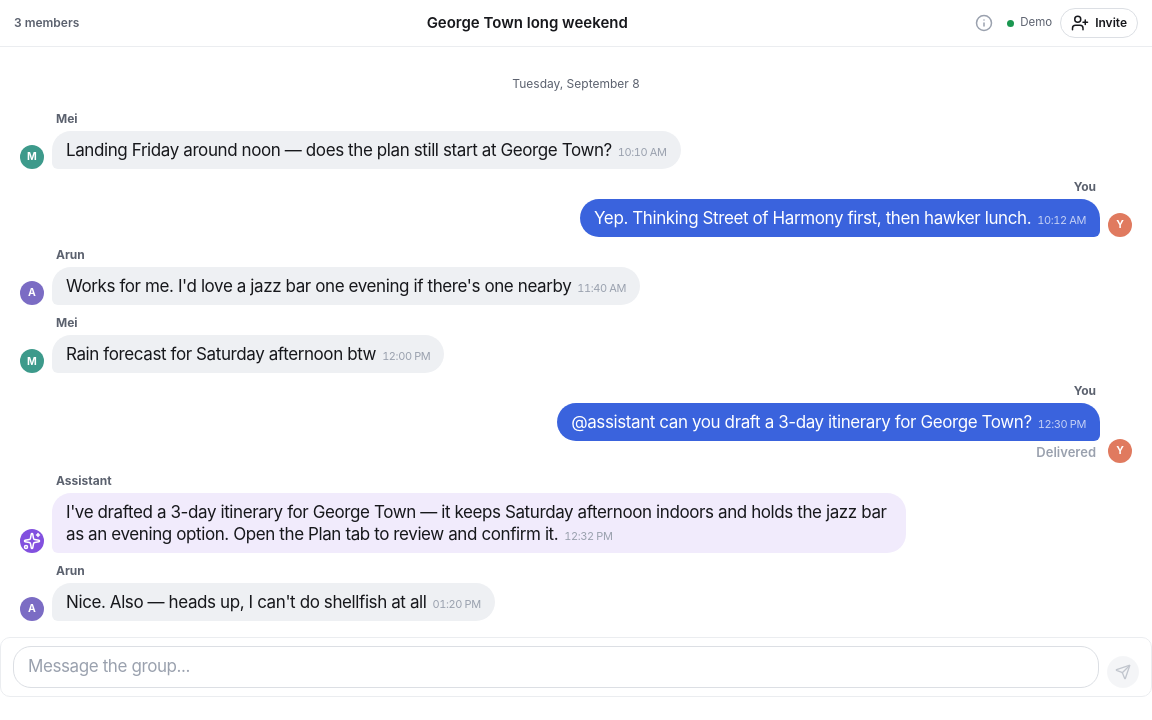
it: DemoChat invite link › copies the invite link to the clipboard
Click the button "Invite": click(1099, 23) 1060,8 -> 1138,38
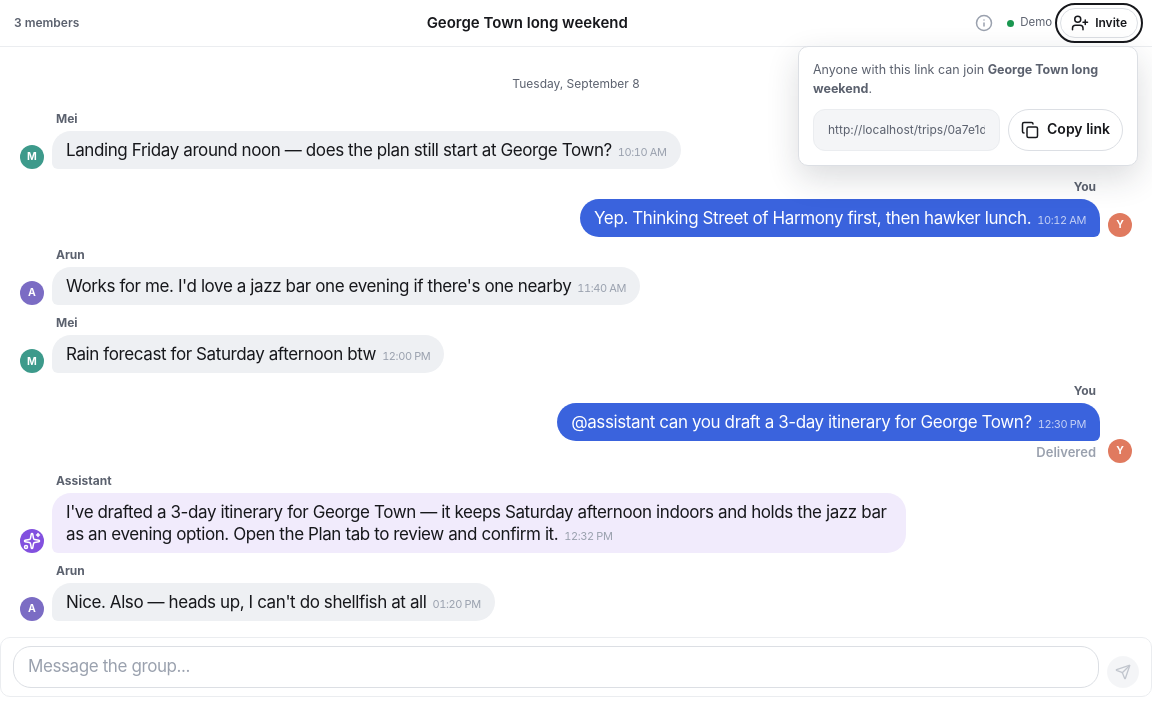
Click the button "Copy link": click(1066, 130) 1008,108 -> 1123,150
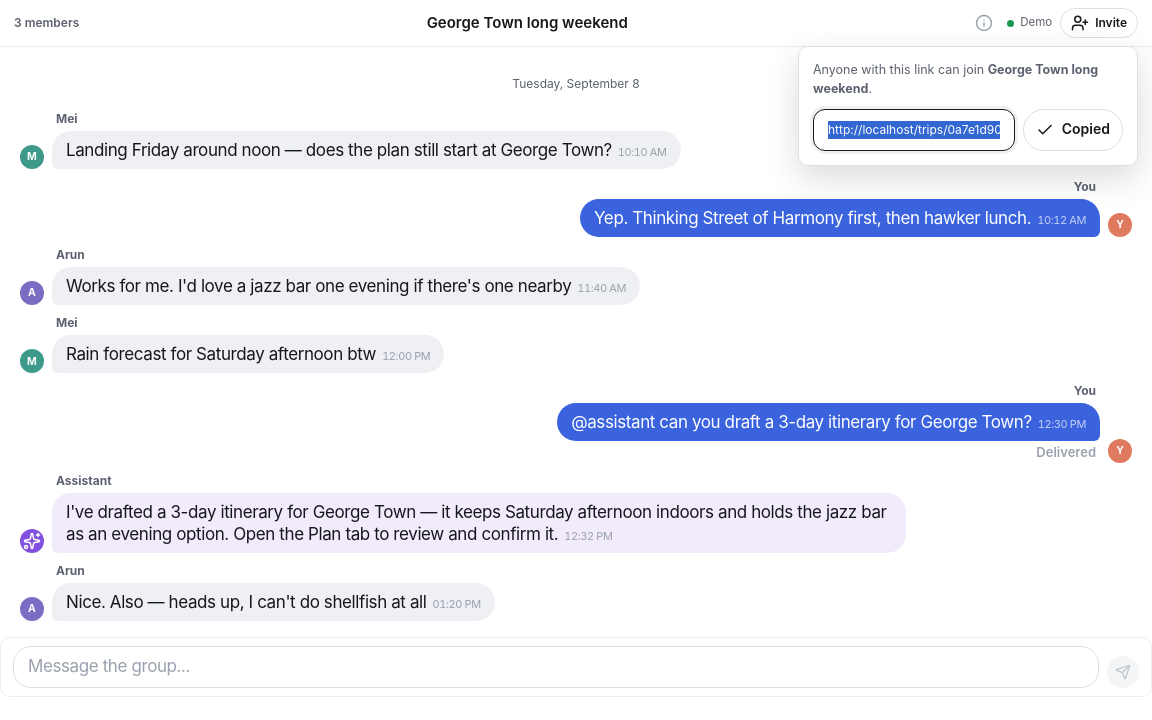
expect the button "Copied" is shown: met, box 1023,108 -> 1123,150
